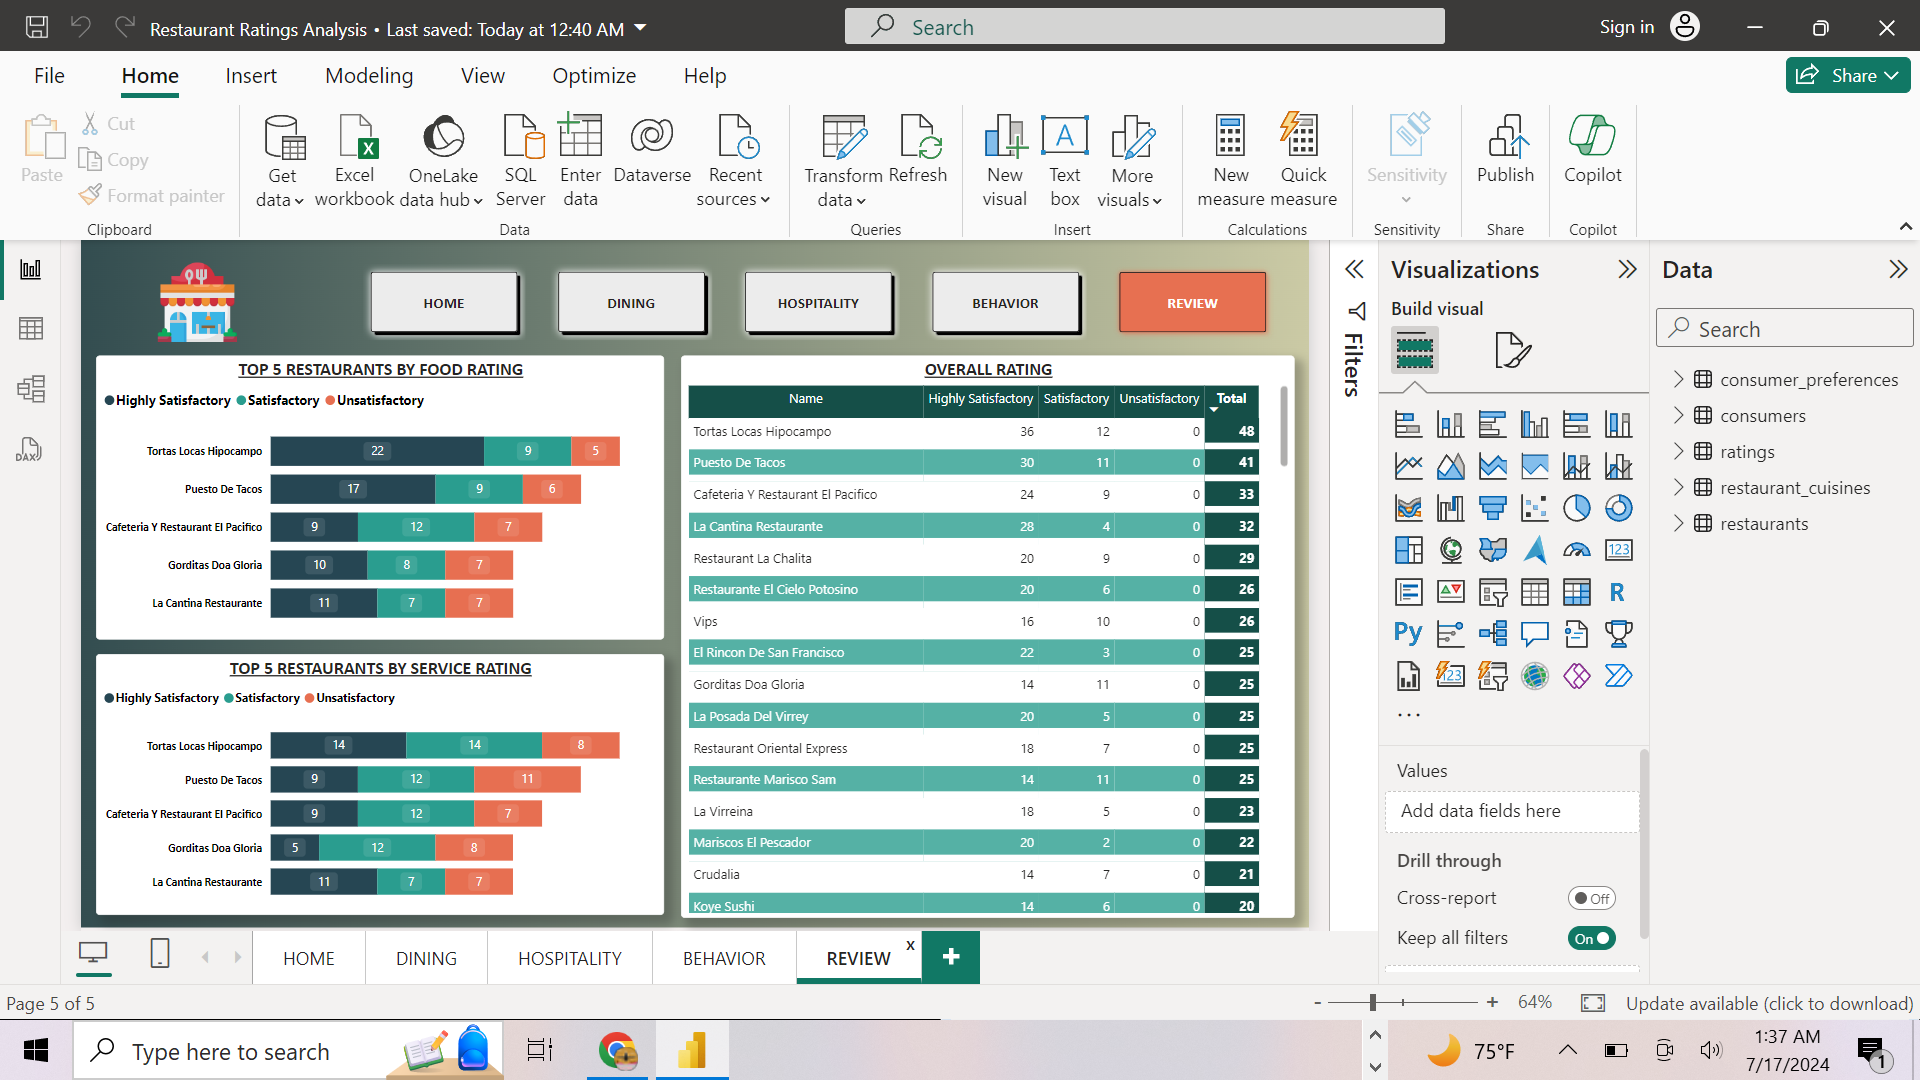

The dashboard page shown, as its layout file describes it:
{"tool":"powerbi","page":{"name":"REVIEW","canvas":[1280,720],"ordinal":4},"visuals":[{"type":"barChart","title":"TOP 5 RESTAURANTS BY SERVICE RATING","fields":{"Category":["restaurants.Name"],"Y":["CountNonNull(ratings.Consumer_ID)"],"Series":["ratings.Service_Rating_Category"]},"box":[16,432,592,272],"z":0},{"type":"barChart","title":"TOP 5 RESTAURANTS BY FOOD RATING","fields":{"Category":["restaurants.Name"],"Y":["CountNonNull(ratings.Consumer_ID)"],"Series":["ratings.Food_Rating_Category"]},"box":[15.9,119.8,592.3,296.2],"z":1000},{"type":"pivotTable","title":"OVERALL RATING","fields":{"Rows":["restaurants.Name"],"Columns":["ratings.Overall_Rating_Category"],"Values":["Sum(ratings.Overall_Rating)"]},"box":[625.3,119.8,639.6,586.3],"z":2000},{"type":"image","box":[70.3,12.5,101.6,104.7],"z":3000},{"type":"pageNavigator","box":[293.8,25,950.3,79.7],"z":4000}]}

Visuals, with their boxes on the page's 1280x720 design canvas (x1, y1, x2, y2). These are canvas units, not pixel positions in the 1920x1080 screenshot, which may show the page scaled, cropped or inside an application window:
"TOP 5 RESTAURANTS BY SERVICE RATING" barChart: 16 432 608 704
"TOP 5 RESTAURANTS BY FOOD RATING" barChart: 16 120 608 416
"OVERALL RATING" pivotTable: 625 120 1265 706
image: 70 12 172 117
pageNavigator: 294 25 1244 105
